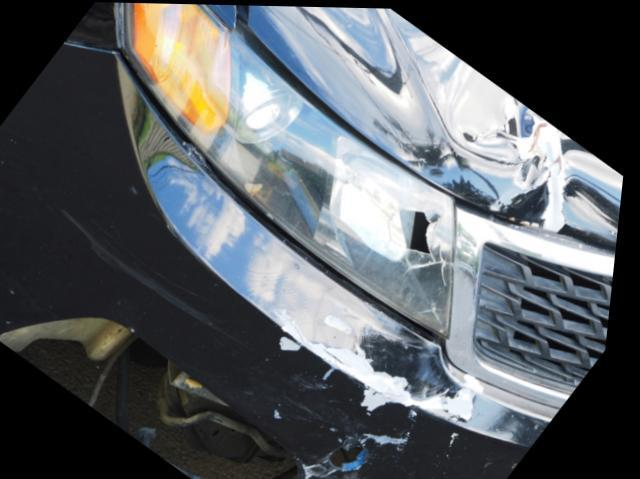dent: (373, 7, 627, 245)
lamp broken: (119, 2, 461, 338)
scratch: (271, 305, 500, 479)
